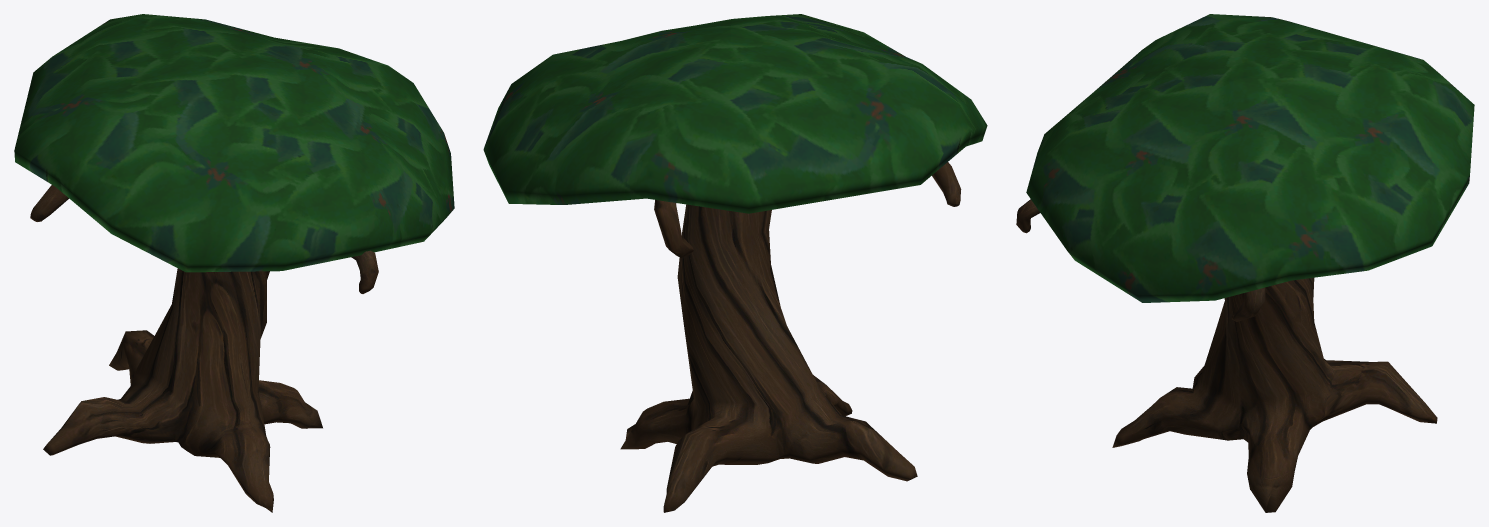
File: TPTree16Shape.dae
3 renders of one model, left to right at view 1: azimuth 30°, elevation 25°; view 2: azimuth 150°, elevation 25°; view 3: azimuth 270°, elevation 25°, orthographic. The views are drawn at different scales.
Parts seen in each view (by area): view 1: TPTree16; view 2: TPTree16; view 3: TPTree16.
Boxes of the visible parts, x1,y1,x2,y2 form: TPTree16: (14,14,454,512); TPTree16: (483,14,987,512); TPTree16: (1016,14,1474,512).
Bounding box in the file's own units: 29.66 × 27.56 × 29.01.
